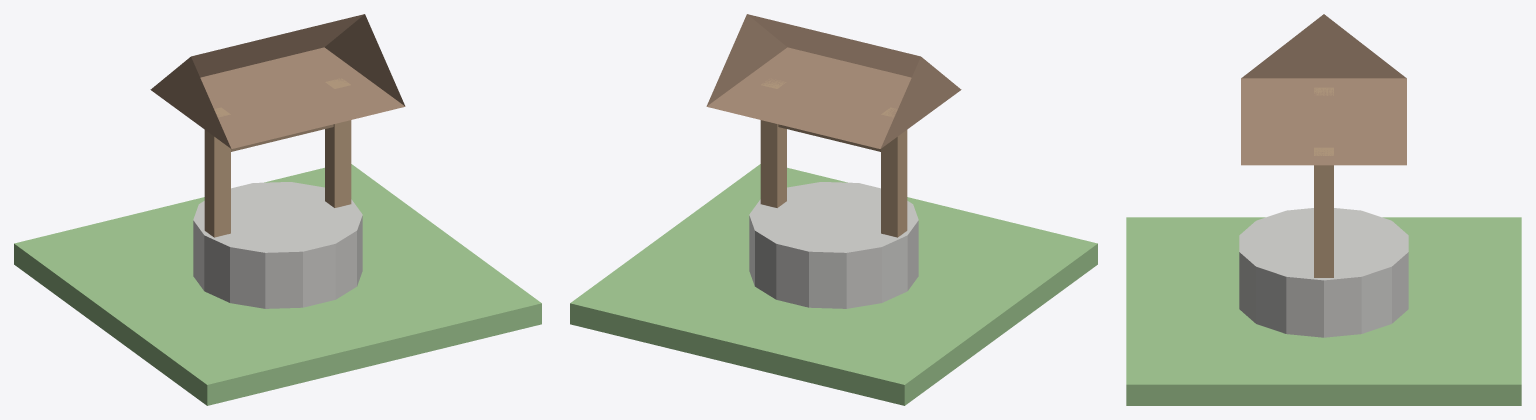
Rendered from well.glb.
3 views of the same model, side by side, from view 1: azimuth 30°, elevation 25°; view 2: azimuth 150°, elevation 25°; view 3: azimuth 270°, elevation 25° (orthographic). The views are drawn at different scales.
Parts seen in each view (by area): view 1: ground, well_roof, well_ring, post_0, post_1; view 2: ground, well_roof, well_ring, post_0, post_1; view 3: ground, well_roof, well_ring, post_1.
Part boxes in pixels (x1,y1,x2,y2): ground: [14, 164, 541, 405]; well_roof: [150, 14, 405, 148]; well_ring: [193, 182, 362, 308]; post_0: [204, 107, 230, 237]; post_1: [325, 78, 351, 207]; ground: [570, 164, 1097, 405]; well_roof: [706, 14, 961, 148]; well_ring: [749, 182, 918, 308]; post_0: [881, 107, 907, 237]; post_1: [760, 78, 786, 207]; ground: [1126, 217, 1521, 405]; well_roof: [1241, 14, 1406, 165]; well_ring: [1239, 208, 1408, 337]; post_1: [1314, 147, 1333, 277].
Size of the model in its own units: 1 by 0.74 by 1.
